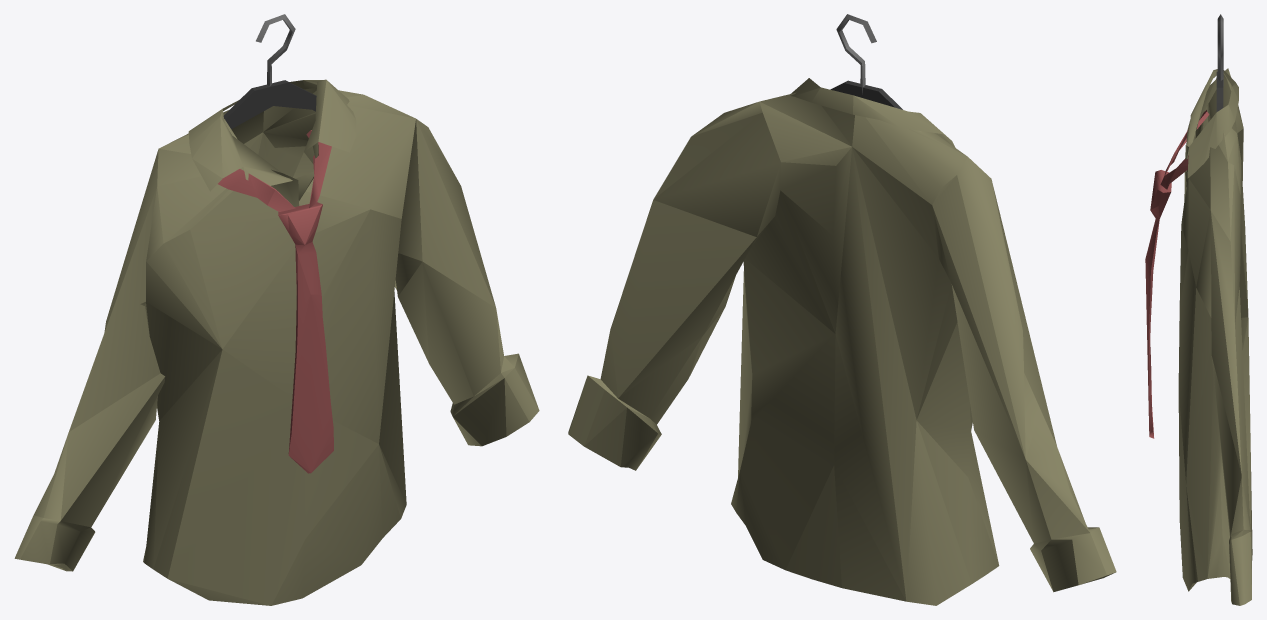
File: uniform.fbx
3 views of the same model, side by side, from view 1: azimuth 30°, elevation 25°; view 2: azimuth 150°, elevation 25°; view 3: azimuth 270°, elevation 25° (orthographic). The views are drawn at different scales.
Parts seen in each view (by area): view 1: Shirt_lo, Tie_lo, coat_hanger1; view 2: Shirt_lo, coat_hanger1; view 3: Shirt_lo, Tie_lo, coat_hanger1.
Boxes of the visible parts, x1,y1,x2,y2 form: Shirt_lo: (14, 79, 539, 605); Tie_lo: (218, 130, 333, 473); coat_hanger1: (223, 14, 316, 129); Shirt_lo: (568, 78, 1116, 605); coat_hanger1: (830, 14, 902, 109); Shirt_lo: (1178, 68, 1252, 605); Tie_lo: (1145, 110, 1209, 438); coat_hanger1: (1216, 14, 1223, 111).
Size of the model in its own units: 98.26 by 101 by 17.51.
